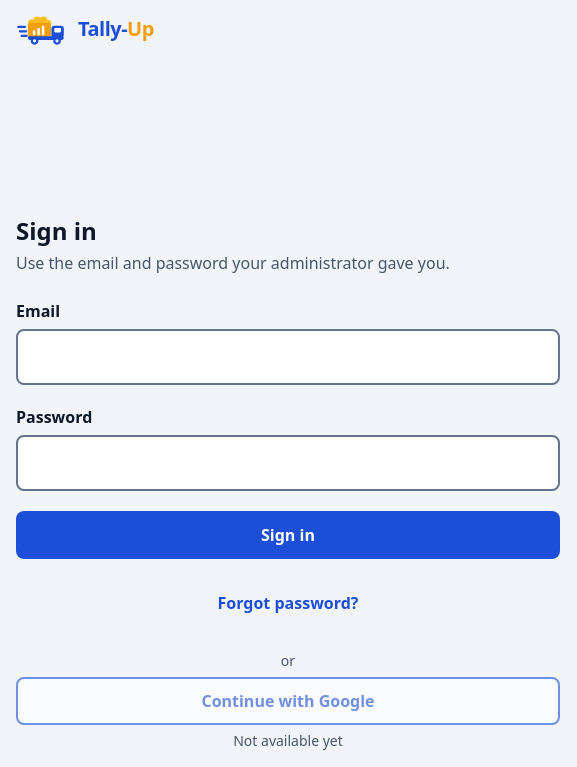
login page › gives the same answer for a wrong password or unknown email (admin@tallyup.test)
Type "admin@tallyup.test" into the field labelled "Email" at (288, 357), box [16,329,560,385]
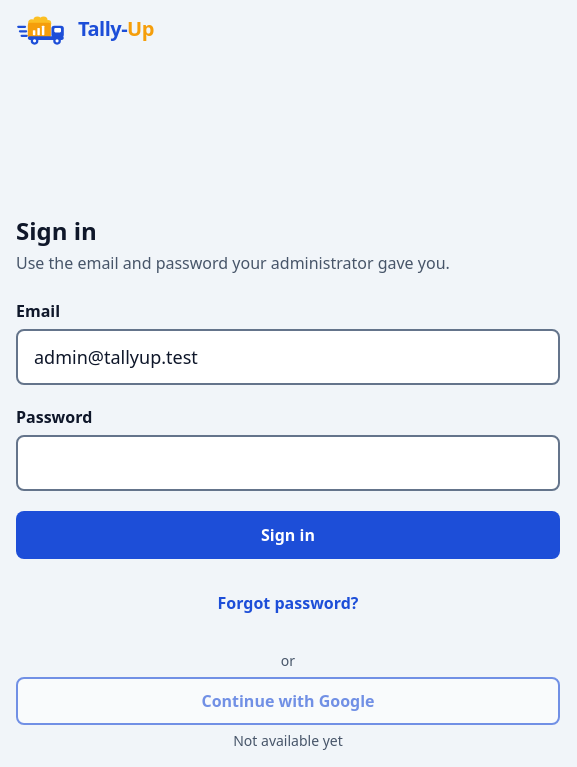
Type "wrong-password" into the password field labelled "Password" at (288, 463), box [16,435,560,491]
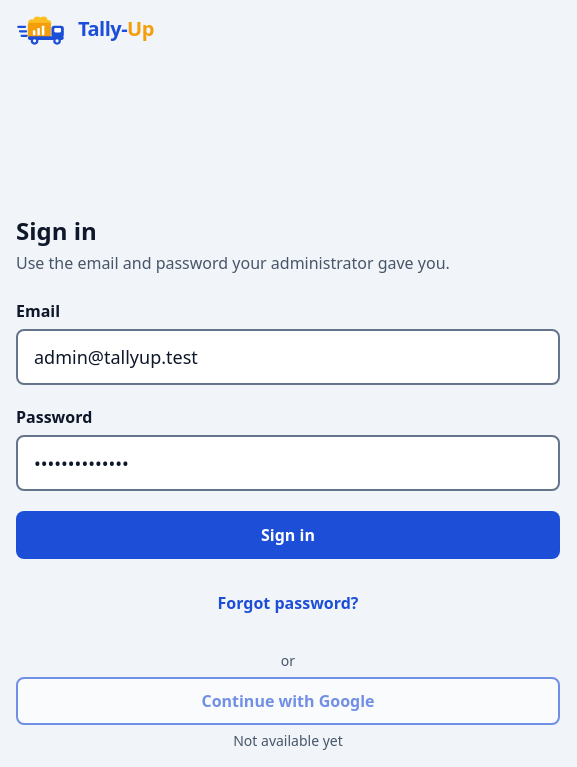
Click the button "Sign in" at (288, 535), box [16,511,560,559]
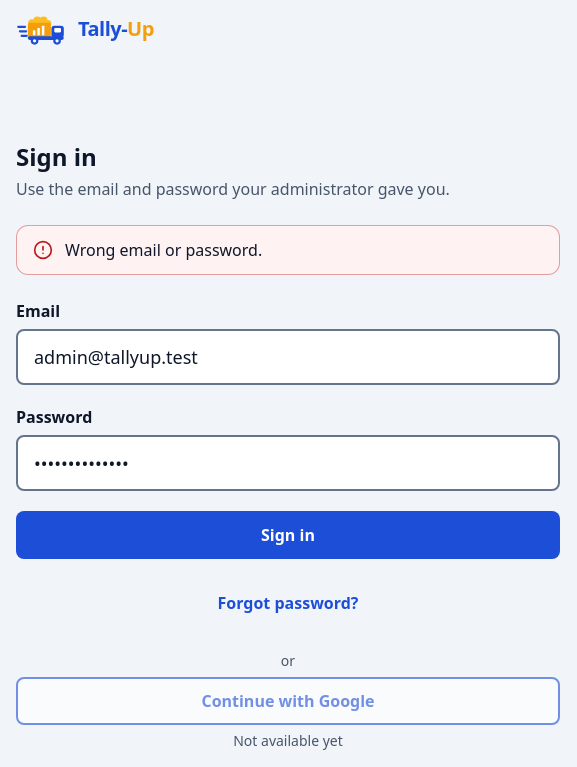
Result: the message reads "Wrong email or password." at [65,239,262,261]
